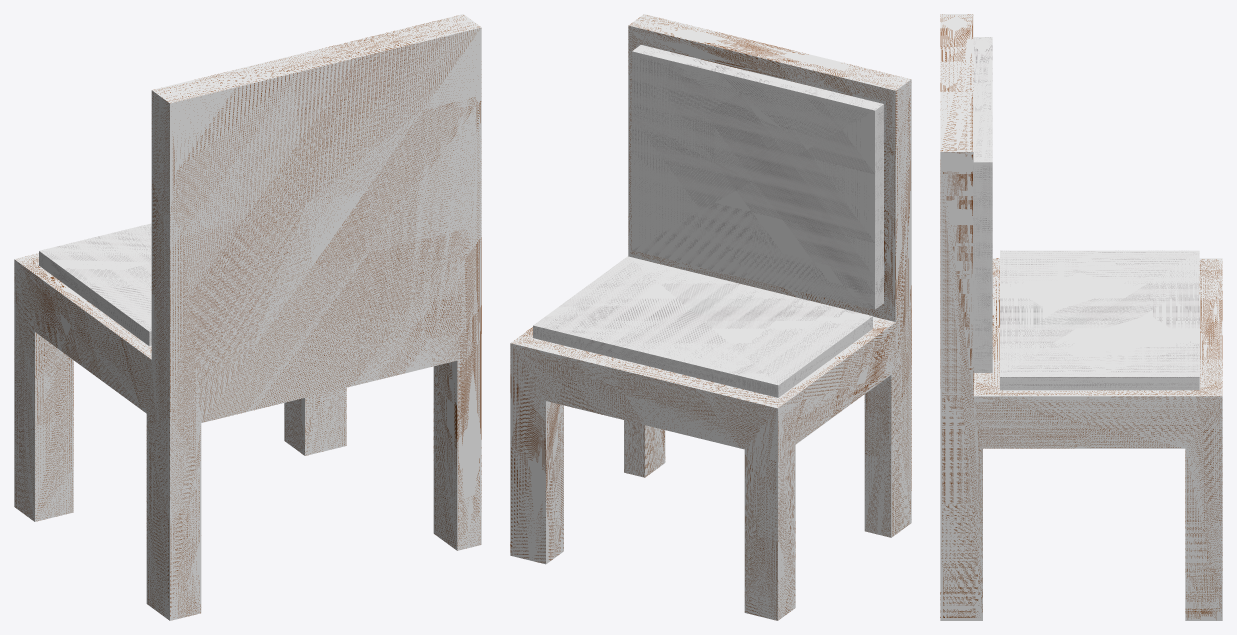
3 renders of one model, left to right at view 1: azimuth 30°, elevation 25°; view 2: azimuth 150°, elevation 25°; view 3: azimuth 270°, elevation 25°, orthographic. The views are drawn at different scales.
Parts seen in each view (by area): view 1: mesh1_mesh1-geometry; view 2: mesh1_mesh1-geometry; view 3: mesh1_mesh1-geometry.
Boxes of the visible parts, box(x1,y1,x2,y2) form: mesh1_mesh1-geometry: box(14, 14, 481, 620); mesh1_mesh1-geometry: box(510, 14, 911, 620); mesh1_mesh1-geometry: box(940, 14, 1222, 620).
Bounding box in the file's own units: 0.4843 × 0.7679 × 0.4193.
3 materials, 2 textured.
